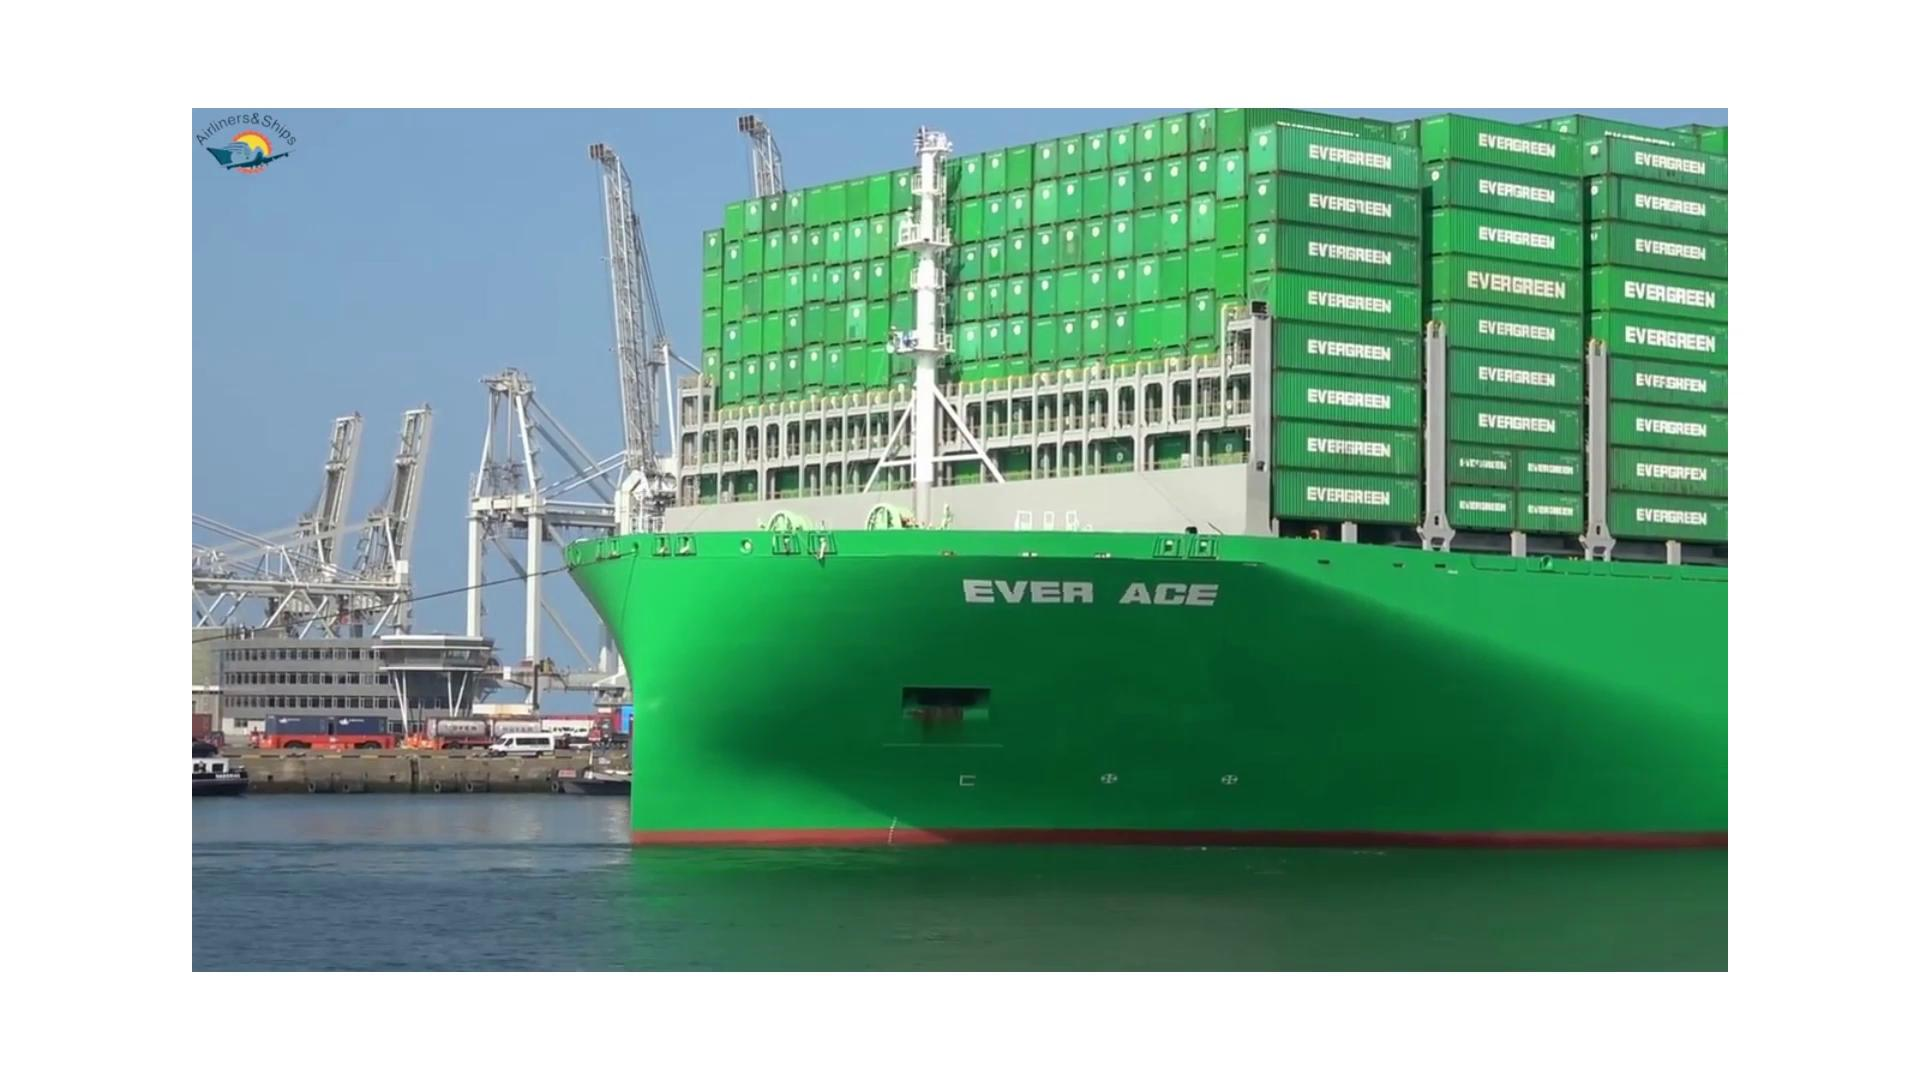OCR: (909, 558, 1224, 630)
